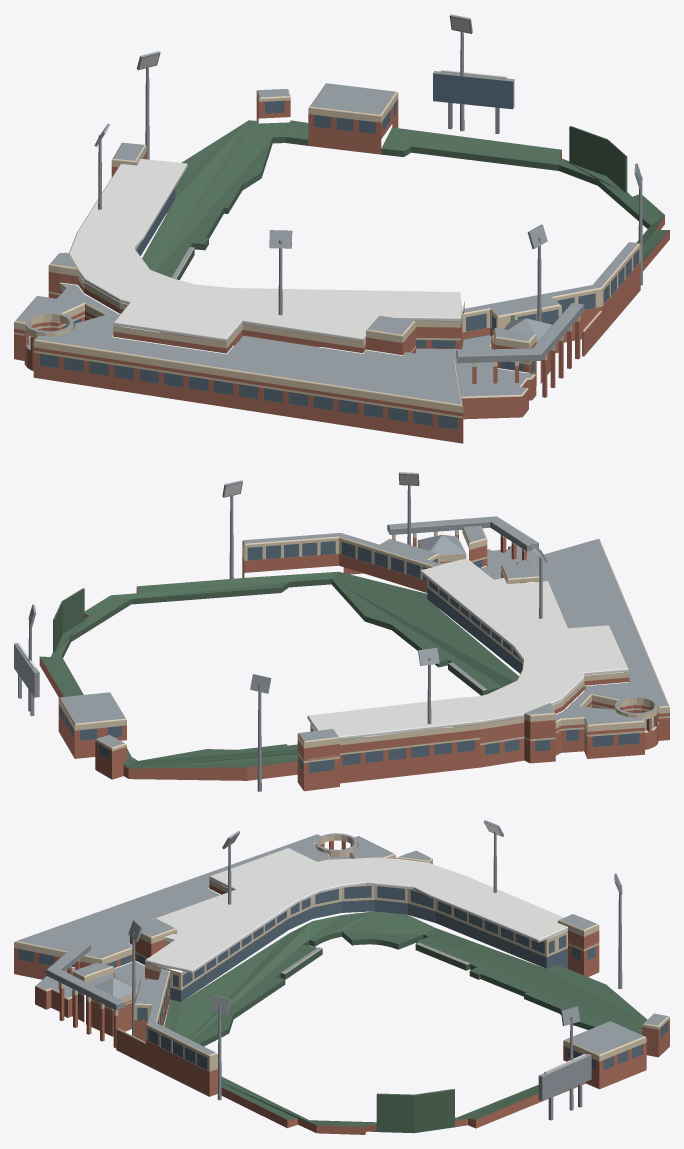
The model's file is detail.glb.
3 renders of one model, top to bottom at view 1: azimuth 30°, elevation 25°; view 2: azimuth 150°, elevation 25°; view 3: azimuth 270°, elevation 25°, orthographic. The views are drawn at different scales.
Parts seen in each view (by area): view 1: truist-field; view 2: truist-field; view 3: truist-field.
Boxes of the visible parts, <box> form: truist-field: <box>14,14,669,443</box>; truist-field: <box>14,472,669,791</box>; truist-field: <box>14,820,669,1134</box>.
Bounding box in the file's own units: 196 × 39.67 × 202.
